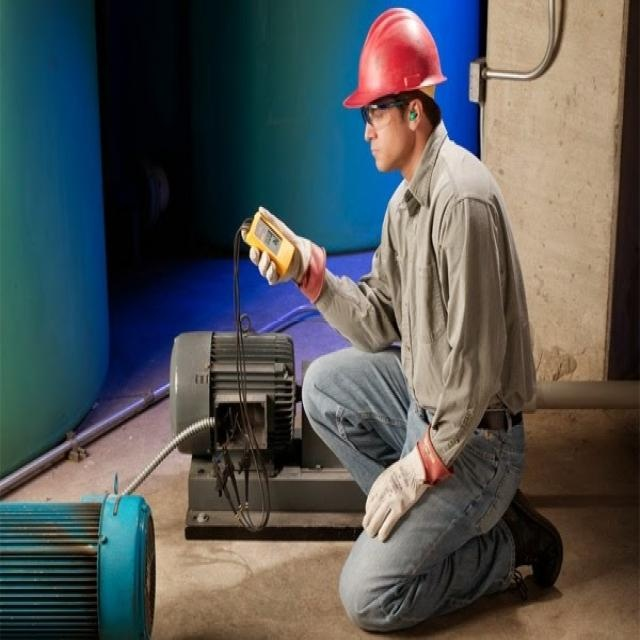Con_Casco: (342, 9, 450, 167)
